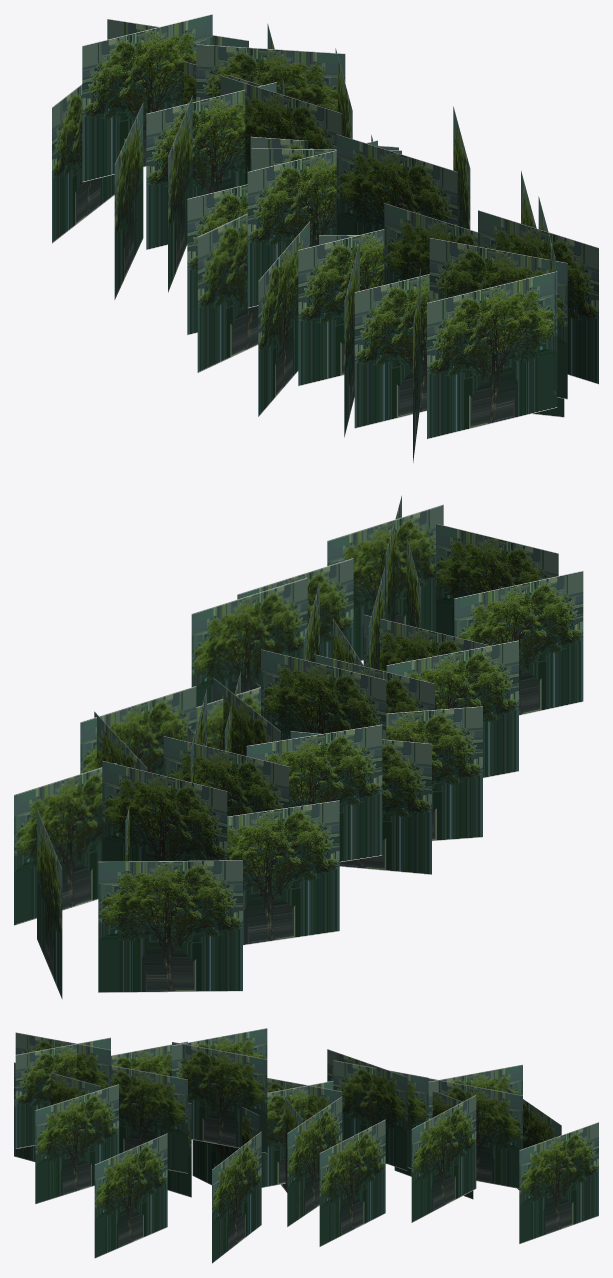
The model's file is AMB_TREES.glb.
3 views of the same model, one above another, from view 1: azimuth 30°, elevation 25°; view 2: azimuth 150°, elevation 25°; view 3: azimuth 270°, elevation 25° (orthographic). The views are drawn at different scales.
Visible parts, largest first — view 1: BASE; view 2: BASE; view 3: BASE.
Part boxes in pixels (left/top/right/bottom): BASE: left=52, top=14, right=598, bottom=462; BASE: left=14, top=495, right=583, bottom=999; BASE: left=14, top=1028, right=598, bottom=1263.
Size of the model in its own units: 42.12 by 33.63 by 113.
1 material, 1 textured.
